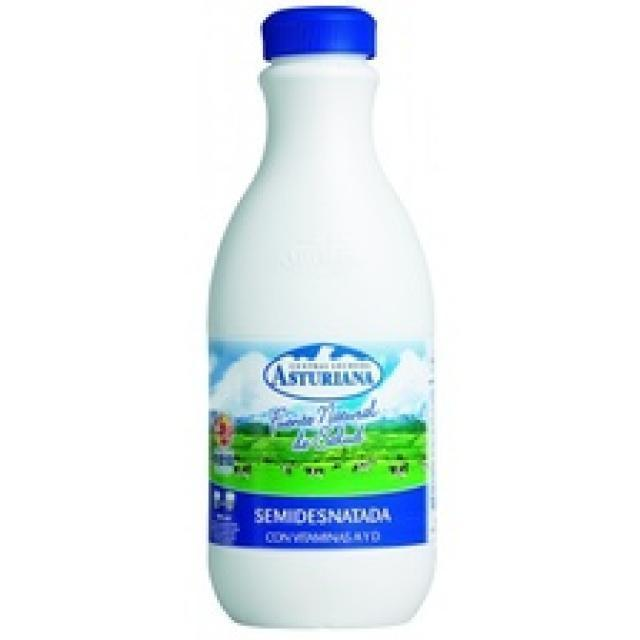Plastic: (209, 6, 432, 626)
